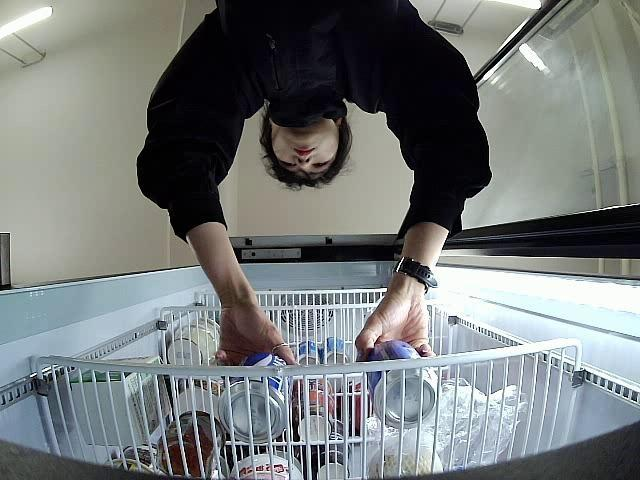13_pocariSweat: (364, 340, 440, 430), (218, 352, 292, 444)
